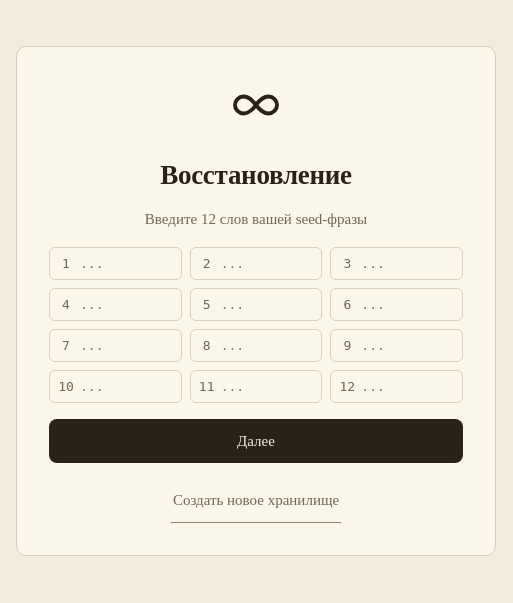
it: Restore — the PIN offer › an invalid phrase never reaches the PIN step
The image size is (513, 603).
Type "zzz bravo charlie delta echo foxtrot golf hotel india juliet kilo lima" into the field named "Слово 1 из 12" at (126, 264), box [80, 252, 173, 275]
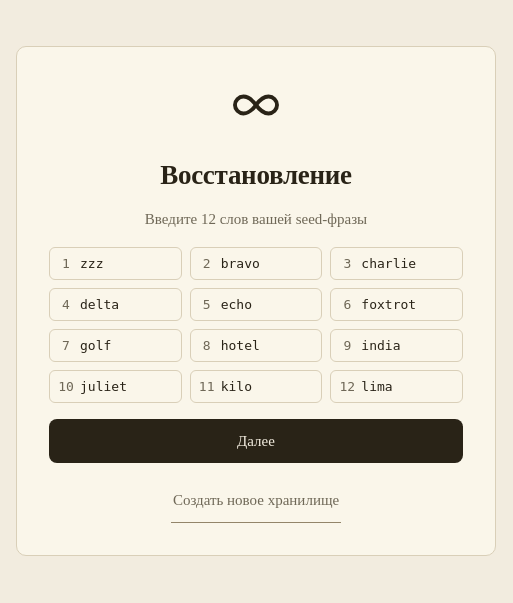
Click the button "Далее" at (256, 441), box [49, 419, 463, 463]
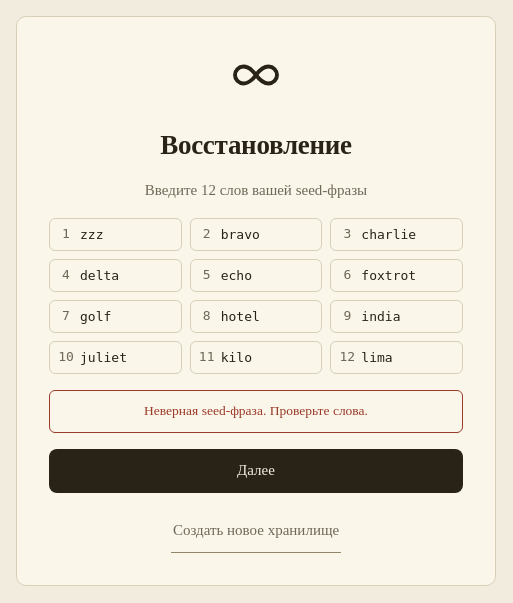
Expected: the text "Неверная seed-фраза. Проверьте слова." is shown, [49, 390, 463, 433]
